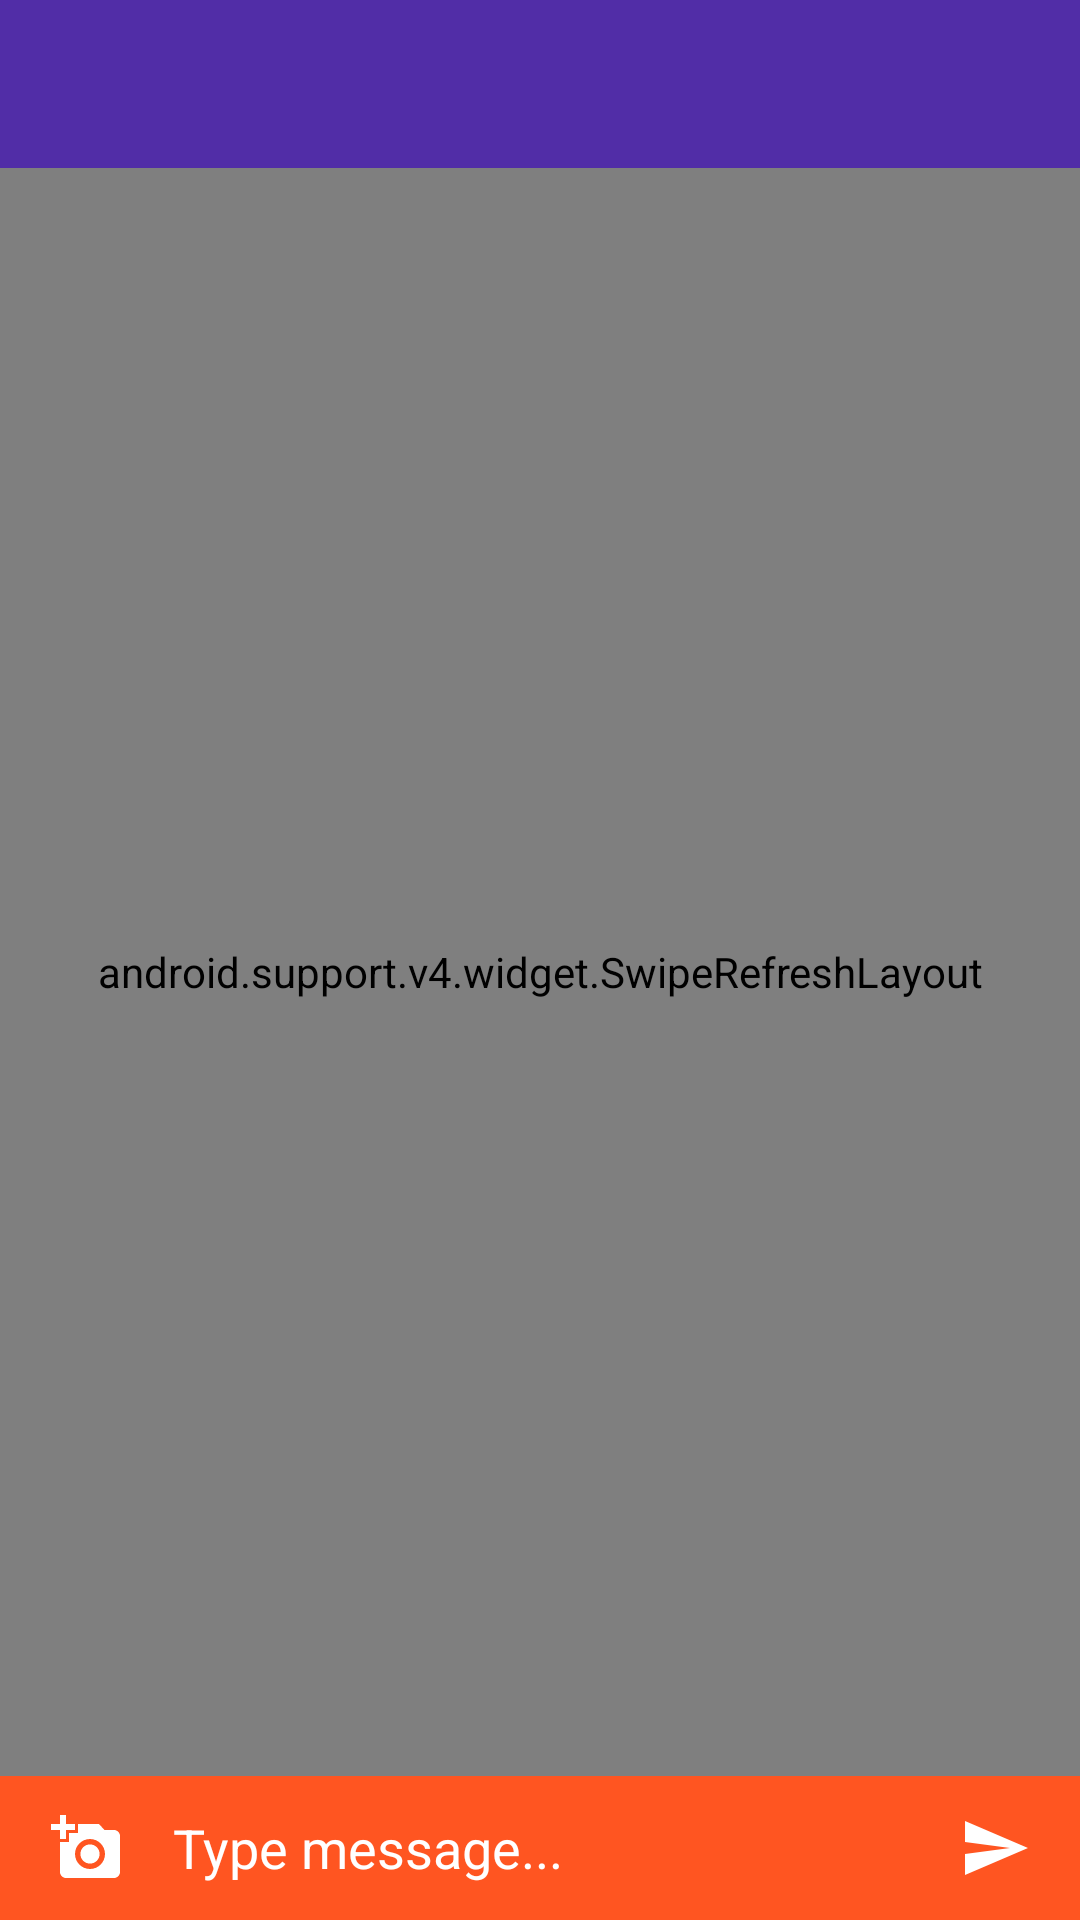

Where icons sit on this 1080 × 1920 app screen, as (x1, y1, x2, y2):
add photo: (51, 1815, 120, 1878)
send: (965, 1821, 1028, 1875)
